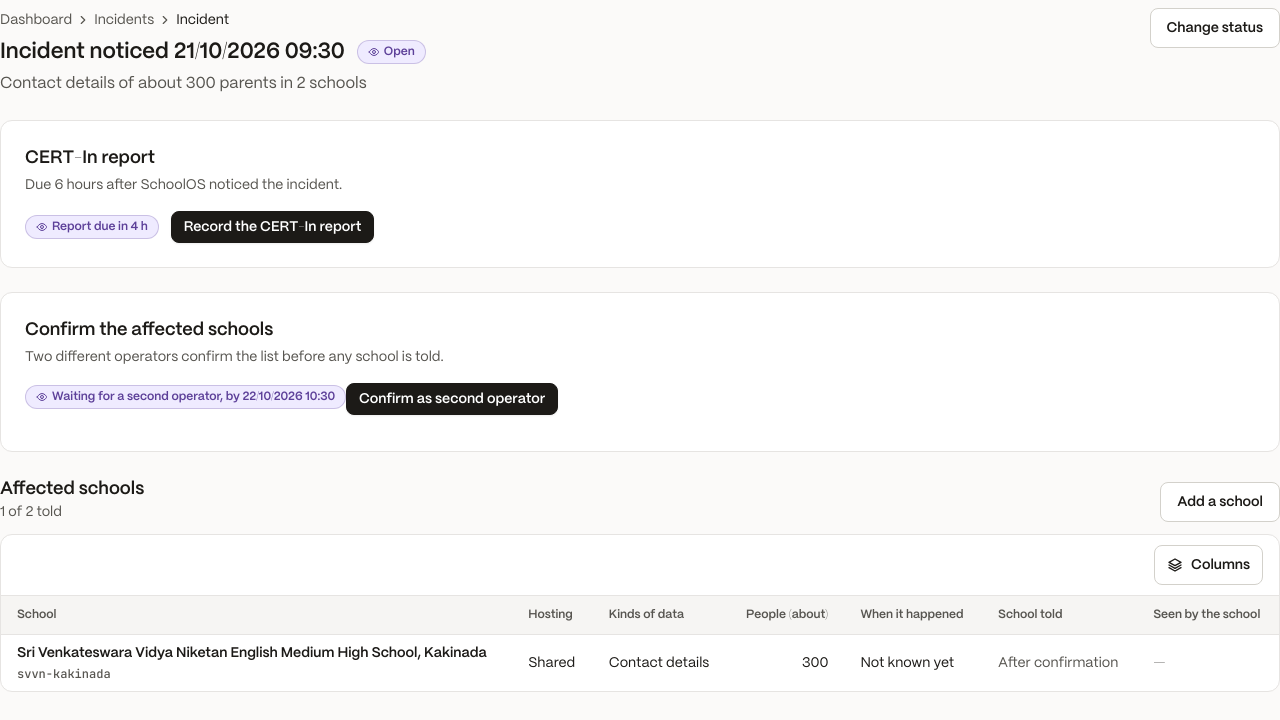
Test: two-person confirmation (SEC-029) › another operator confirms second; a refusal is explained
Click the button "Confirm as second operator".
click(452, 399)  # box [346,383,558,415]
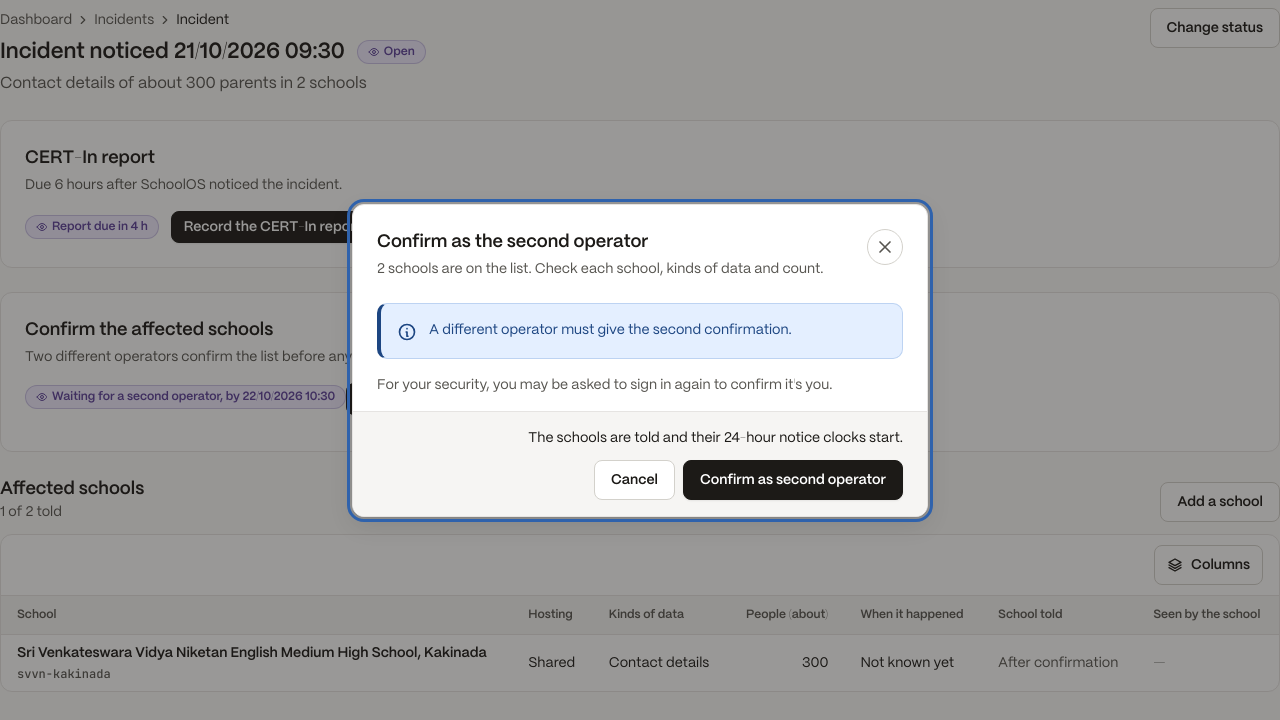
Click the button "Confirm as second operator" below "Confirm as the second operator".
click(793, 480)  # box [683,460,903,500]
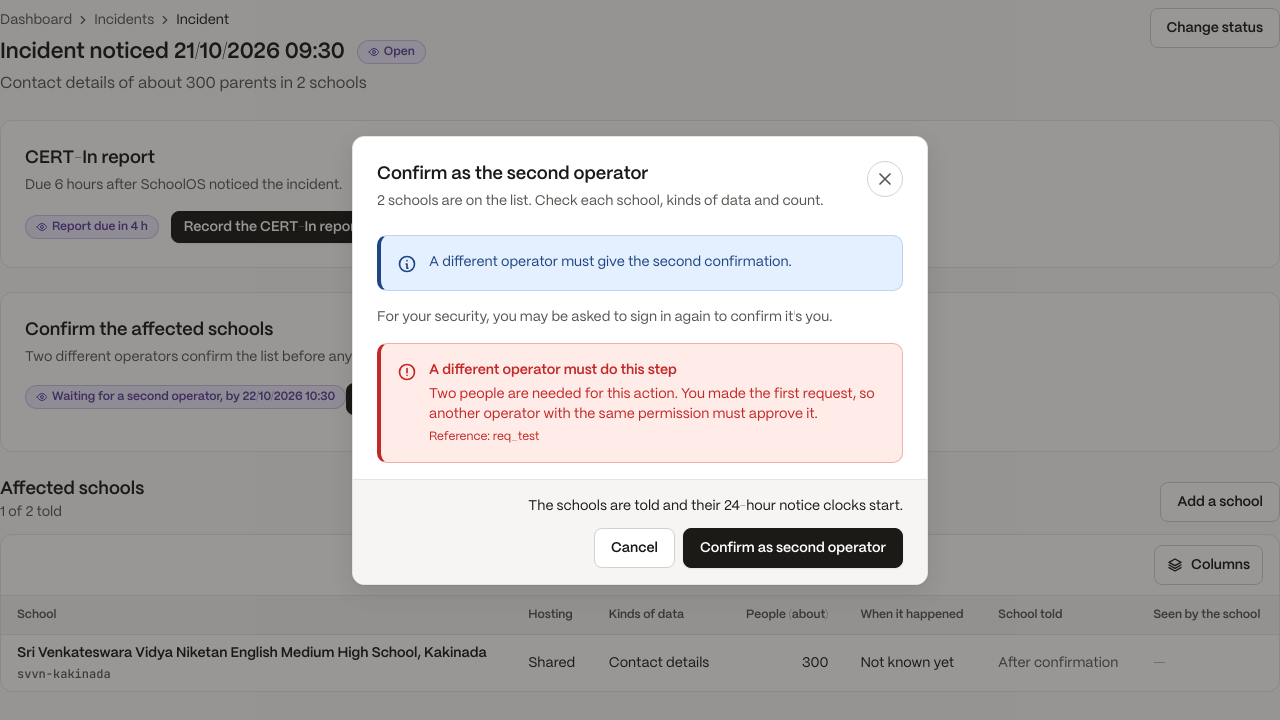
Expected: the text "A different operator must do this step" is shown, [429,362,677,376]
